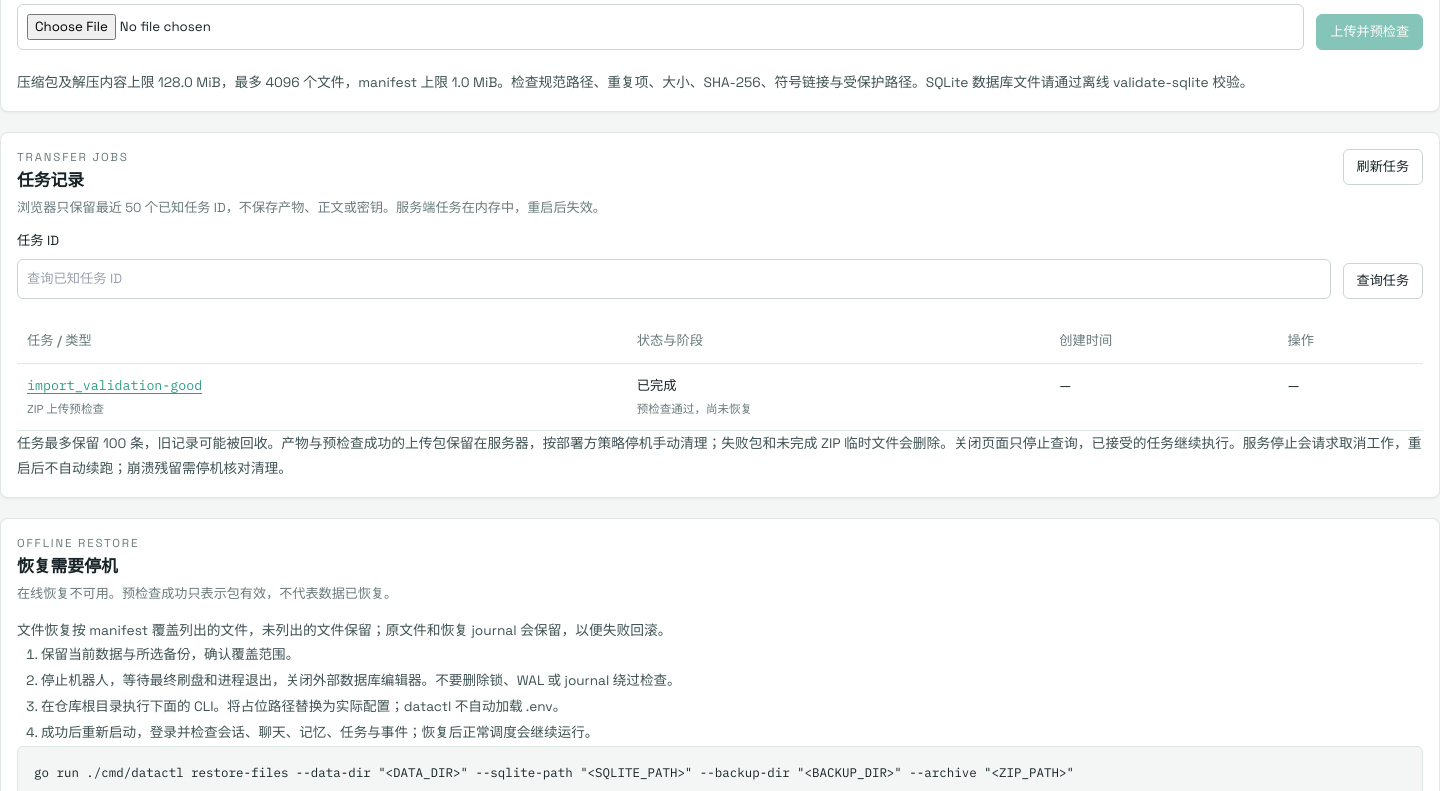
it: distinguishes validation success from restore and keeps the file report collapsed
(page scrolled)
Click the button with aria-label "查看任务 import_validation-good" at (115, 386), box [27,376,202,396]
(page scrolled)
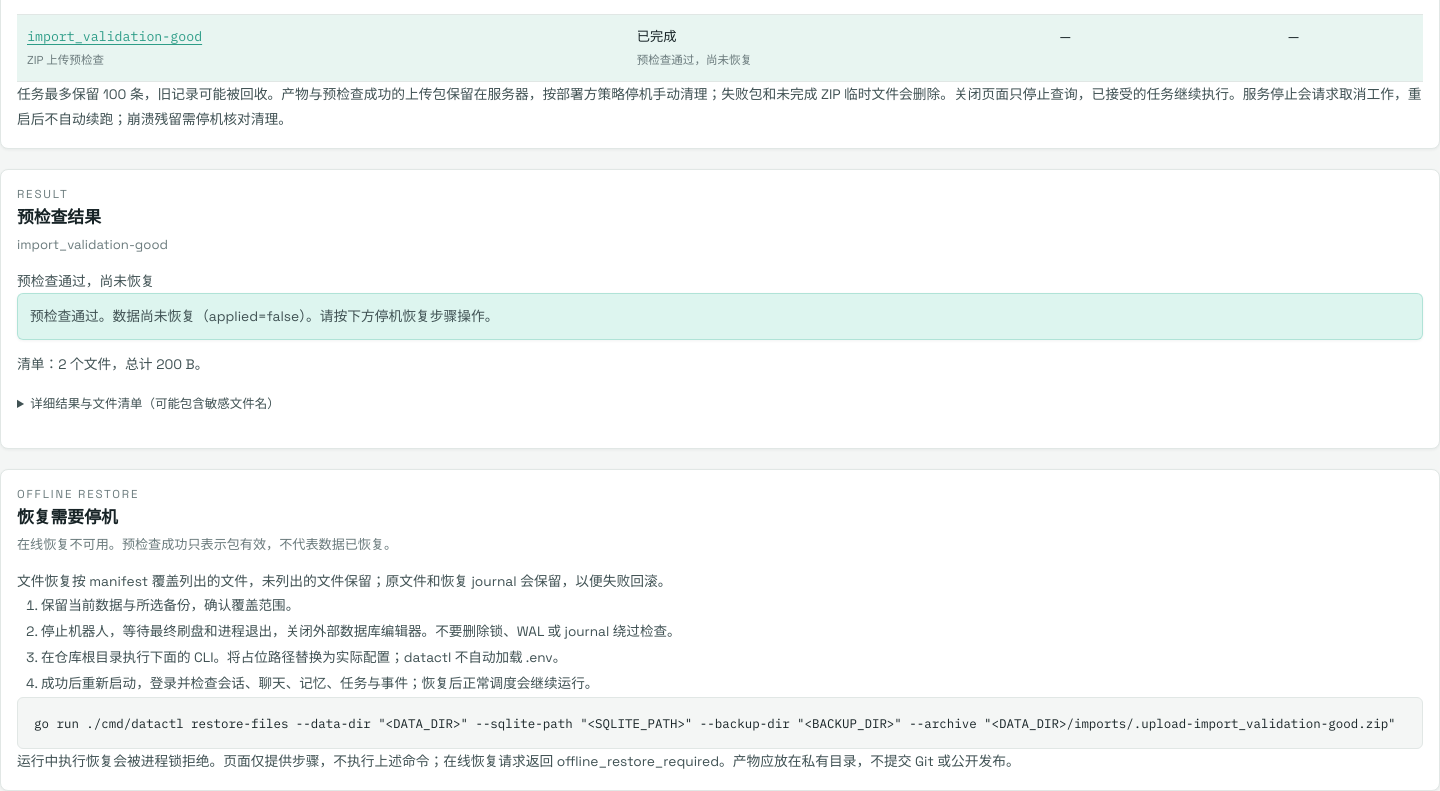
Check: the text "预检查通过。数据尚未恢复（applied=false）。请按下方停机恢复步骤操作。" is shown, box [17,294,1423,340]
Check: the text "清单：2 个文件，总计 200 B。" is shown, box [17,355,208,373]
Check: the text "--archive \"<DATA_DIR>/imports/.upload-import_validation-good.zip\"" is shown, box [34,715,1396,731]
